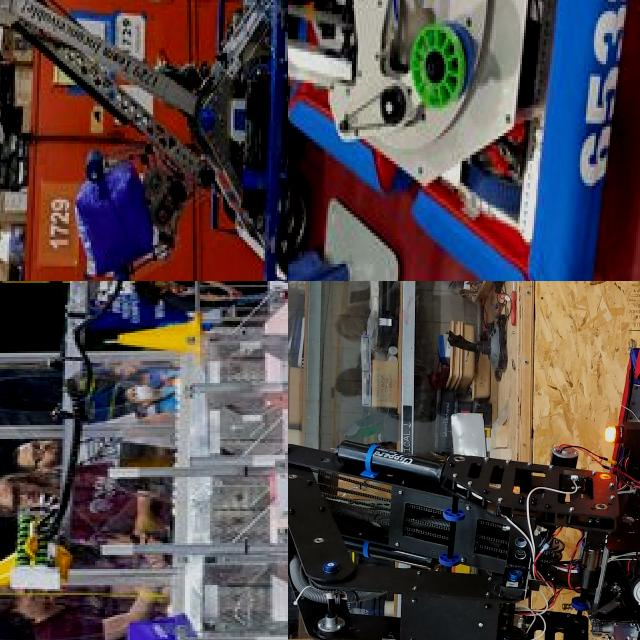FRC-Robots: (288, 287, 640, 640), (288, 0, 640, 281), (0, 281, 288, 599), (0, 0, 288, 281)
